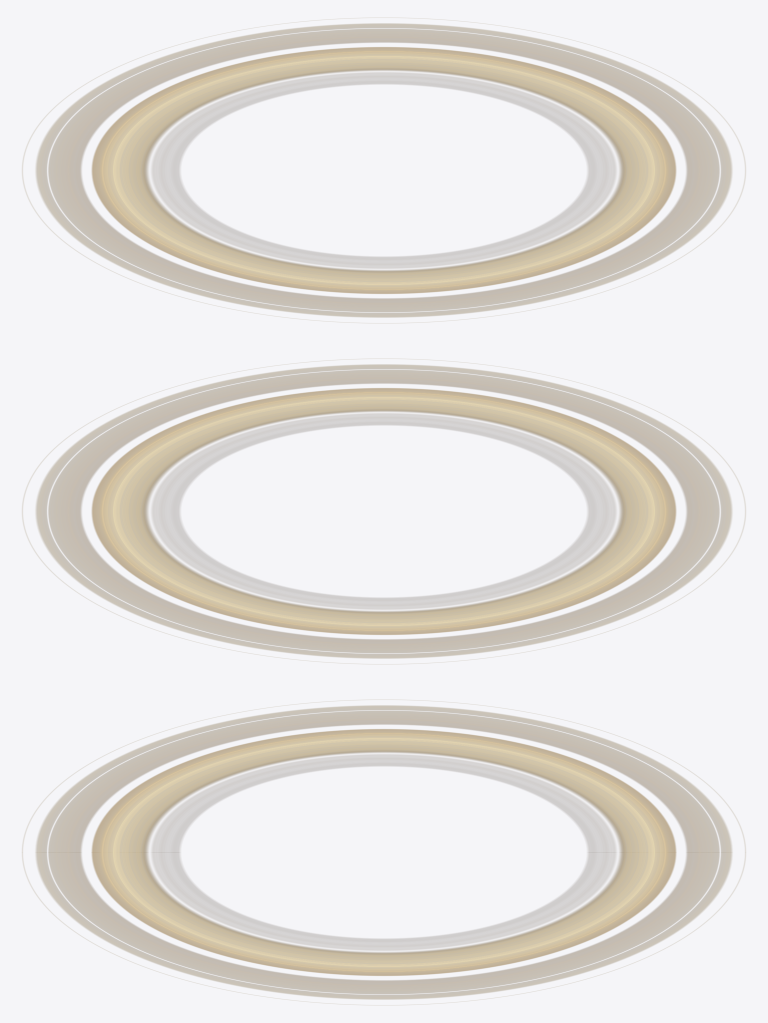
File: gas_giant_rings.glb
3 views of the same model, one above another, from view 1: azimuth 30°, elevation 25°; view 2: azimuth 150°, elevation 25°; view 3: azimuth 270°, elevation 25° (orthographic).
Visible parts, largest first — view 1: Gas_Giant_Rings; view 2: Gas_Giant_Rings; view 3: Gas_Giant_Rings.
Part boxes in pixels (x1,y1,x2,y2): Gas_Giant_Rings: (22, 17, 745, 323); Gas_Giant_Rings: (22, 358, 745, 664); Gas_Giant_Rings: (22, 699, 745, 1005).
Size of the model in its own units: 4.7 by 0 by 4.7.
Materials: 1 (1 with a texture image).
